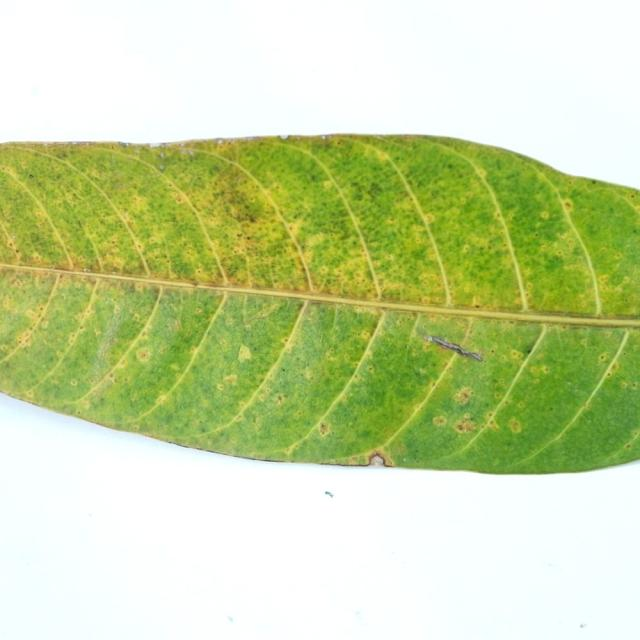Mango: (0, 136, 639, 472)
Powdery_Mildew: (287, 243, 314, 286), (450, 384, 479, 410), (362, 178, 388, 200), (454, 417, 477, 433), (367, 451, 391, 466), (238, 344, 253, 363), (136, 346, 153, 362), (16, 331, 33, 347), (528, 364, 548, 376), (507, 418, 522, 433), (222, 374, 238, 387), (244, 211, 258, 224), (432, 415, 447, 427), (318, 422, 330, 436), (509, 349, 524, 360), (301, 368, 314, 380), (360, 329, 372, 341), (274, 394, 286, 405), (608, 362, 620, 373), (155, 395, 167, 406), (598, 274, 611, 284), (423, 213, 435, 223), (488, 419, 500, 429), (460, 244, 471, 254), (225, 316, 236, 326), (421, 296, 433, 305), (539, 211, 550, 220), (598, 353, 609, 362), (323, 180, 334, 189), (39, 320, 49, 329), (471, 296, 480, 306), (281, 336, 290, 345), (298, 242, 307, 251), (494, 391, 503, 399), (614, 252, 623, 260), (621, 381, 630, 389), (516, 401, 526, 408), (564, 201, 572, 209), (235, 414, 243, 422), (133, 313, 141, 321), (69, 379, 78, 386), (194, 307, 203, 314), (222, 280, 232, 286), (367, 366, 375, 373), (217, 384, 225, 391), (625, 442, 633, 449), (69, 334, 76, 341), (175, 196, 183, 202), (555, 250, 563, 256), (109, 373, 115, 381), (195, 268, 203, 274), (9, 242, 15, 248), (447, 163, 453, 169), (131, 397, 136, 404), (28, 174, 34, 179), (237, 233, 243, 237), (246, 236, 251, 240), (591, 180, 596, 184), (491, 349, 494, 354), (637, 229, 640, 234), (637, 194, 640, 198)
